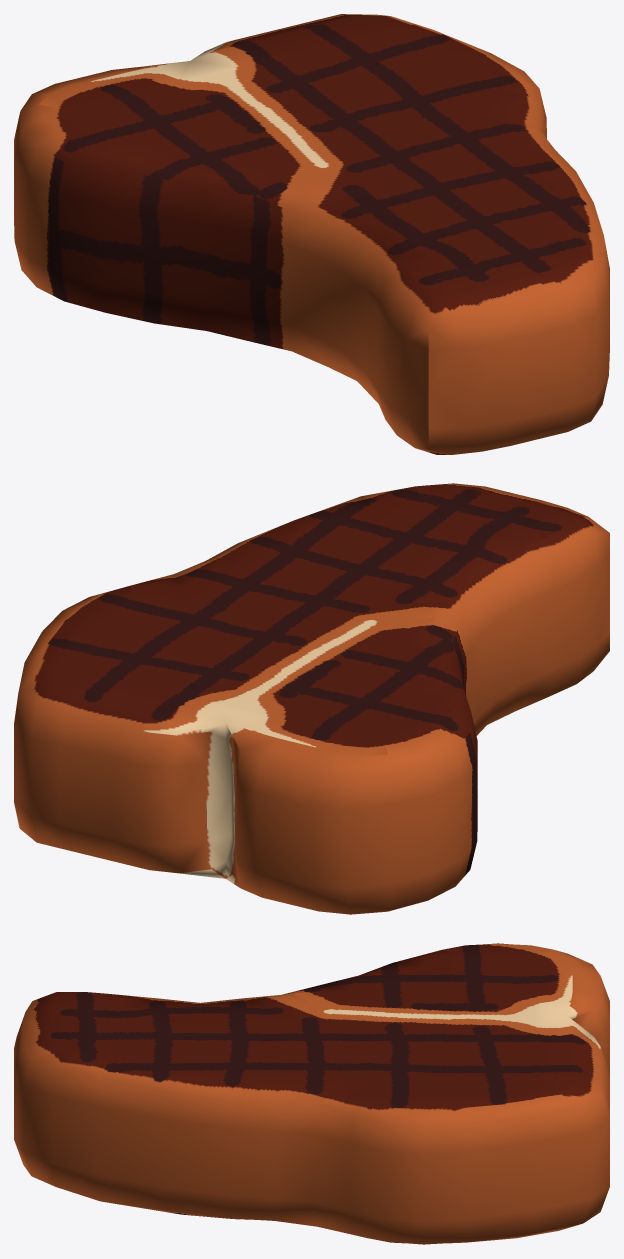
The model's file is cookedSteak.obj.
3 renders of one model, top to bottom at view 1: azimuth 30°, elevation 25°; view 2: azimuth 150°, elevation 25°; view 3: azimuth 270°, elevation 25°, orthographic. The views are drawn at different scales.
Parts seen in each view (by area): view 1: Box001; view 2: Box001; view 3: Box001.
Part boxes in pixels (x1,y1,x2,y2): Box001: (14,14,609,454); Box001: (14,483,609,914); Box001: (14,943,609,1244).
Bounding box in the file's own units: 15 × 5 × 20.
